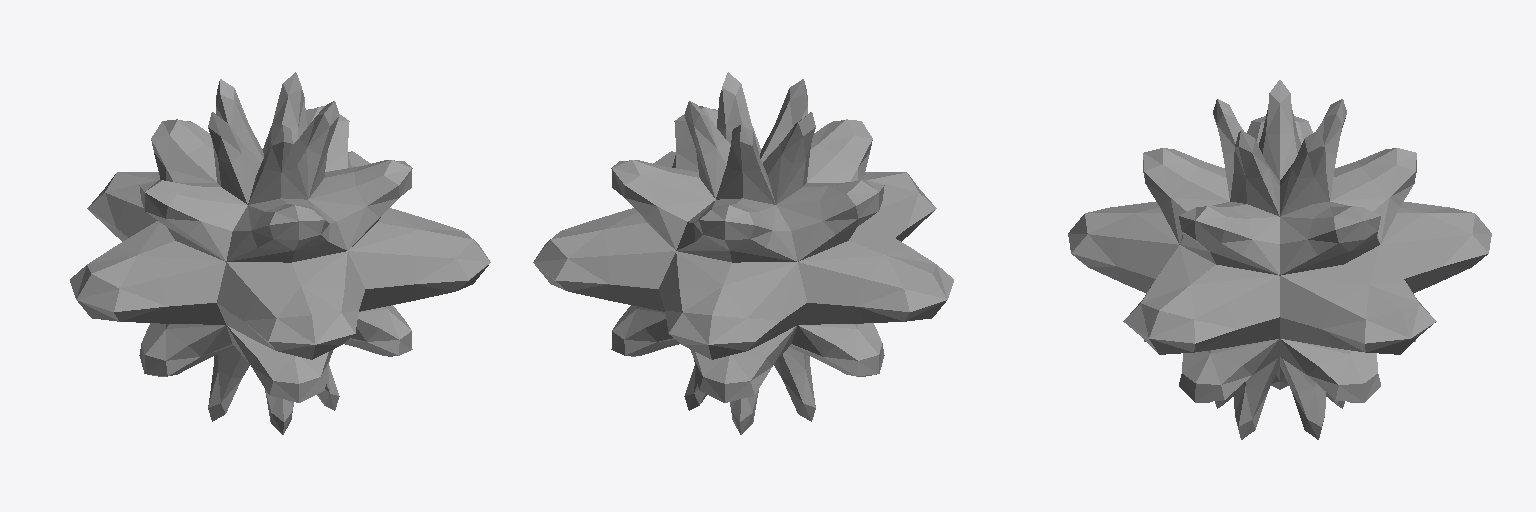
Rendered from explosao.obj.
3 renders of one model, left to right at view 1: azimuth 30°, elevation 25°; view 2: azimuth 150°, elevation 25°; view 3: azimuth 270°, elevation 25°, orthographic.
Bounding box in the file's own units: 5.1 × 4.22 × 5.21.